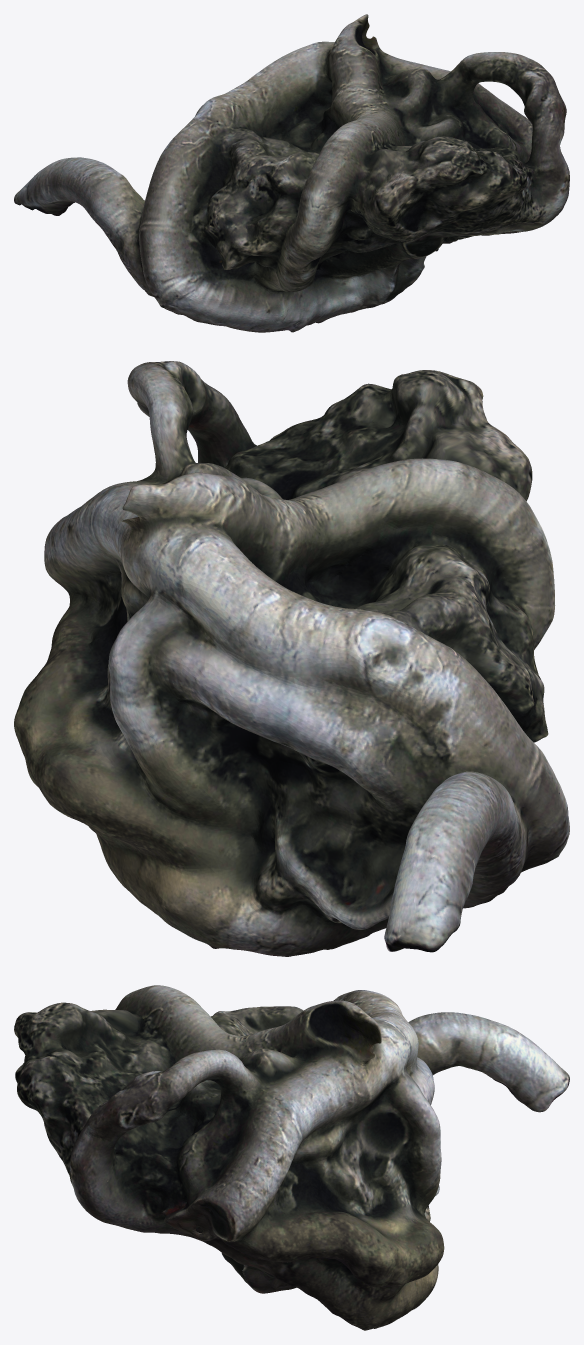
File: MZUR3D-065.glb
3 renders of one model, top to bottom at view 1: azimuth 30°, elevation 25°; view 2: azimuth 150°, elevation 25°; view 3: azimuth 270°, elevation 25°, orthographic. The views are drawn at different scales.
Parts seen in each view (by area): view 1: MZUR3D-065; view 2: MZUR3D-065; view 3: MZUR3D-065.
Part boxes in pixels (box(x1,y1,x2,y2)): MZUR3D-065: box(14, 14, 569, 332); MZUR3D-065: box(14, 361, 569, 956); MZUR3D-065: box(14, 985, 569, 1330).
Bounding box in the file's own units: 0.3324 × 0.2258 × 0.3464.
1 material, 1 textured.
